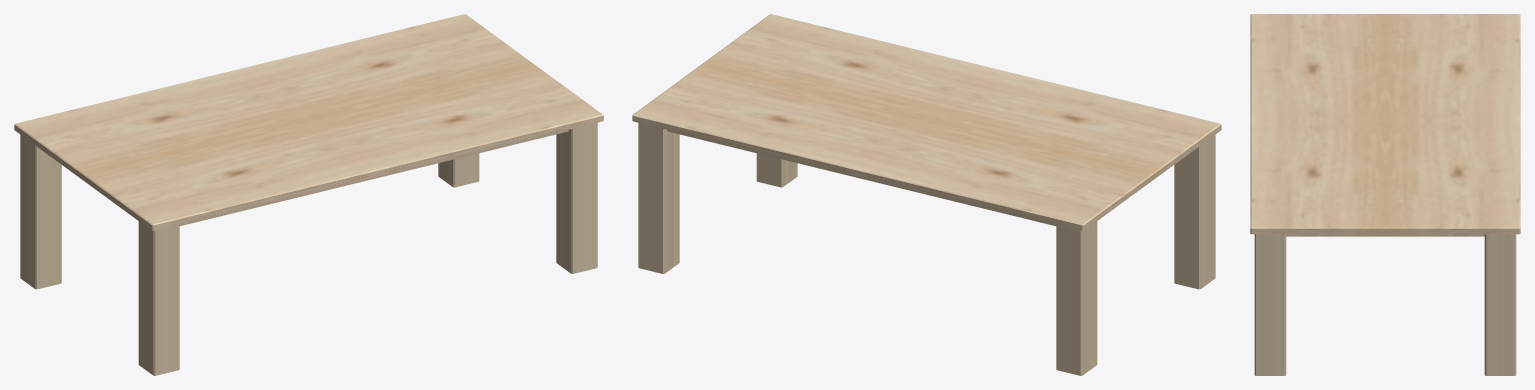
The model's file is mesa.fbx.
The picture shows the model from 3 angles, left to right: view 1: azimuth 30°, elevation 25°; view 2: azimuth 150°, elevation 25°; view 3: azimuth 270°, elevation 25°; orthographic projection. The views are drawn at different scales.
Parts seen in each view (by area): view 1: Mesa; view 2: Mesa; view 3: Mesa.
Boxes of the visible parts, left/top/right/bottom form: Mesa: left=14, top=14, right=603, bottom=375; Mesa: left=632, top=14, right=1221, bottom=375; Mesa: left=1250, top=14, right=1520, bottom=375.
Bounding box in the file's own units: 684 × 223 × 364.
Materials: 1 (1 with a texture image).
